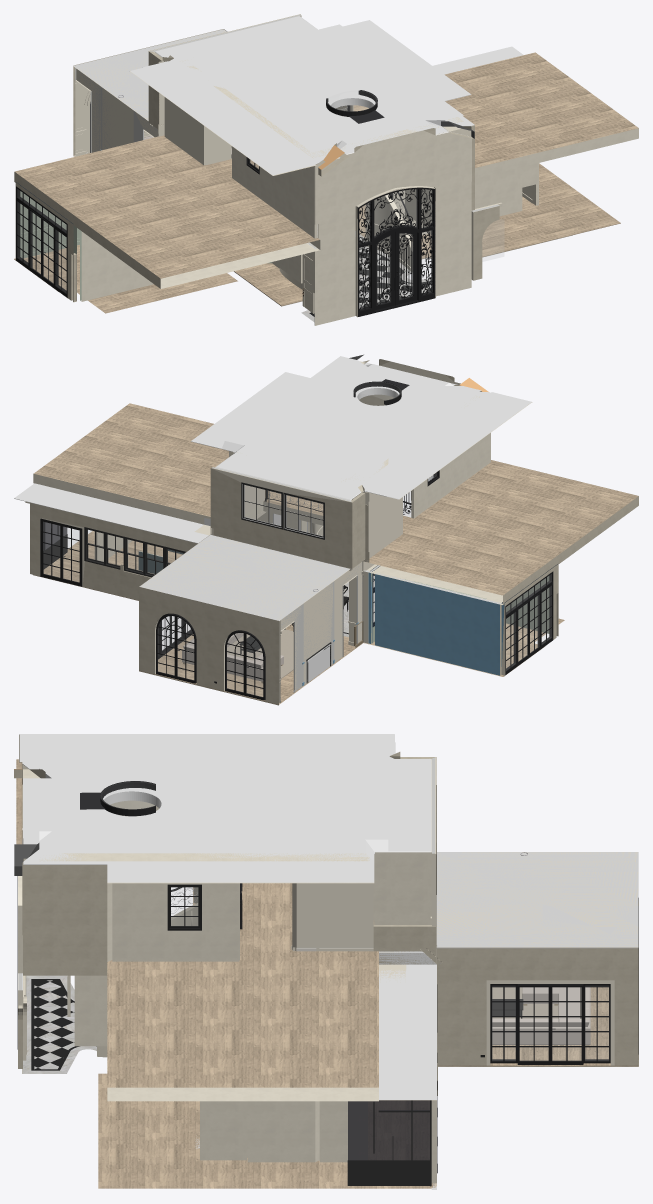
File: family-room-c085afd79cb3.glb
The picture shows the model from 3 angles, top to bottom: view 1: azimuth 30°, elevation 25°; view 2: azimuth 150°, elevation 25°; view 3: azimuth 270°, elevation 25°; orthographic projection. The views are drawn at different scales.
Parts seen in each view (by area): view 1: family-room-look-2575515a05775d9e, family-room-look-e8793759323e04f0, family-room-look-9d91b47435c6fb33, family-room-look-34525a54e63b733b, family-room-look-3b0077416469e01b, family-room-look-d5a4a1b5d3594c04, family-room-look-5f56640b372ec5ce, family-room-look-746250f96522f643, family-room-4a969f5cc1ae3dfe, family-room-look-bce662e26d5a5947, family-room-look-d999b7e09afcf2f4, family-room-9d80b152e3f2ea10 (+30 smaller); view 2: family-room-look-2575515a05775d9e, family-room-look-e8793759323e04f0, family-room-look-9d91b47435c6fb33, family-room-4a969f5cc1ae3dfe, family-room-look-b19b106fc304963c, family-room-look-245f595ae2832e16, family-room-969b861f9850351e, family-room-look-bfb9fa537cd11d1d, family-room-look-9a0e9ee9b2a451d7, family-room-9d80b152e3f2ea10, family-room-look-5f56640b372ec5ce, family-room-50d54560d247b537 (+27 smaller); view 3: family-room-look-2575515a05775d9e, family-room-look-e8793759323e04f0, family-room-look-9d91b47435c6fb33, family-room-4a969f5cc1ae3dfe, family-room-look-3b0077416469e01b, family-room-e706aa16b4547c37, family-room-look-62353aa10fc57f23, family-room-50d54560d247b537, family-room-look-c51ecd664a3b22a3, family-room-look-9a0e9ee9b2a451d7, family-room-look-5f56640b372ec5ce, family-room-look-69af8f587252f9fa (+28 smaller).
Part boxes in pixels (box(x1,y1,x2,y2)): family-room-look-2575515a05775d9e: box(14, 52, 638, 288); family-room-look-e8793759323e04f0: box(180, 23, 463, 158); family-room-look-9d91b47435c6fb33: box(130, 16, 474, 175); family-room-look-34525a54e63b733b: box(314, 126, 471, 244); family-room-look-3b0077416469e01b: box(14, 163, 620, 306); family-room-look-d5a4a1b5d3594c04: box(314, 208, 471, 325); family-room-look-5f56640b372ec5ce: box(254, 81, 404, 139); family-room-look-746250f96522f643: box(232, 146, 317, 238); family-room-4a969f5cc1ae3dfe: box(73, 29, 226, 120); family-room-look-bce662e26d5a5947: box(357, 187, 435, 316); family-room-look-d999b7e09afcf2f4: box(80, 230, 153, 301); family-room-9d80b152e3f2ea10: box(76, 69, 158, 152); family-room-look-2575515a05775d9e: box(33, 403, 638, 604); family-room-look-e8793759323e04f0: box(222, 356, 481, 481); family-room-look-9d91b47435c6fb33: box(191, 362, 532, 500); family-room-4a969f5cc1ae3dfe: box(139, 534, 349, 621); family-room-look-b19b106fc304963c: box(375, 573, 501, 675); family-room-look-245f595ae2832e16: box(210, 467, 352, 568); family-room-969b861f9850351e: box(139, 587, 280, 704); family-room-look-bfb9fa537cd11d1d: box(30, 502, 197, 600); family-room-look-9a0e9ee9b2a451d7: box(14, 483, 208, 543); family-room-9d80b152e3f2ea10: box(280, 562, 362, 690); family-room-look-5f56640b372ec5ce: box(324, 377, 464, 430); family-room-50d54560d247b537: box(139, 534, 343, 620); family-room-look-2575515a05775d9e: box(16, 759, 378, 1101); family-room-look-e8793759323e04f0: box(39, 756, 388, 861); family-room-look-9d91b47435c6fb33: box(19, 734, 431, 883); family-room-4a969f5cc1ae3dfe: box(436, 852, 638, 948); family-room-look-3b0077416469e01b: box(98, 920, 436, 1188); family-room-e706aa16b4547c37: box(437, 948, 633, 1065); family-room-look-62353aa10fc57f23: box(23, 865, 112, 975); family-room-50d54560d247b537: box(436, 852, 638, 948); family-room-look-c51ecd664a3b22a3: box(112, 883, 239, 961); family-room-look-9a0e9ee9b2a451d7: box(379, 964, 436, 1100); family-room-look-5f56640b372ec5ce: box(83, 756, 196, 825); family-room-look-69af8f587252f9fa: box(292, 883, 373, 947).
Bounding box in the file's own units: 21.02 × 7.02 × 16.88.
63 materials, 12 textured.
